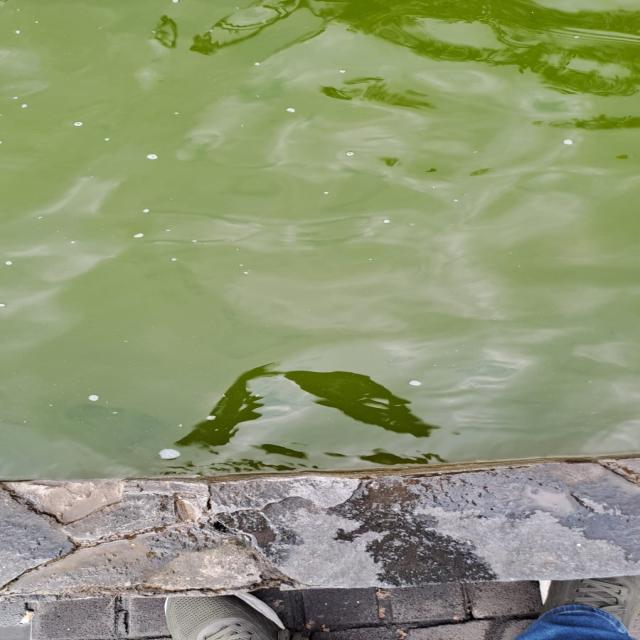Ponds: (1, 1, 640, 581)
